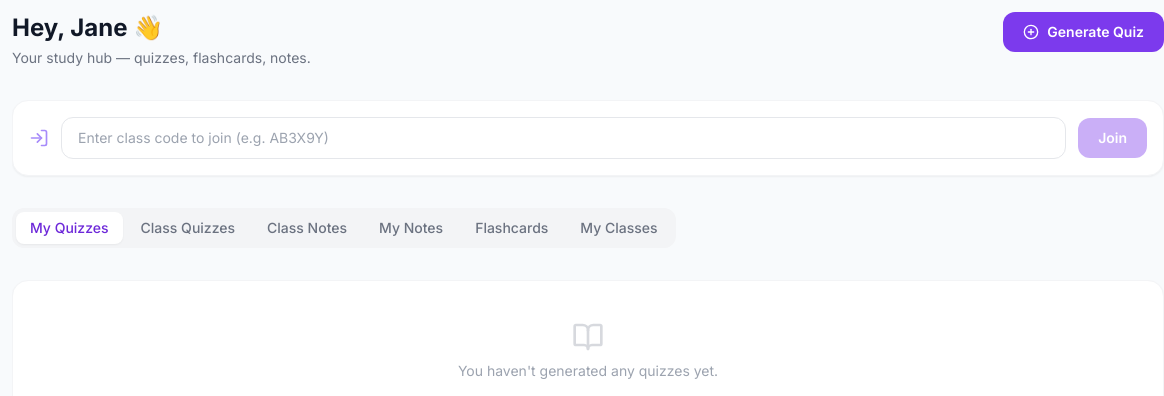
Scenario: StudentDashboard - FEAT-003 › AC-3.1.1: join button is enabled when input has text
This screenshot has width=1164, height=396.
# Type into the class code input
In the field with placeholder "Enter class code to join (e.g. AB3X9Y)": (564, 138) [61,117,1066,159], type "MATH101"
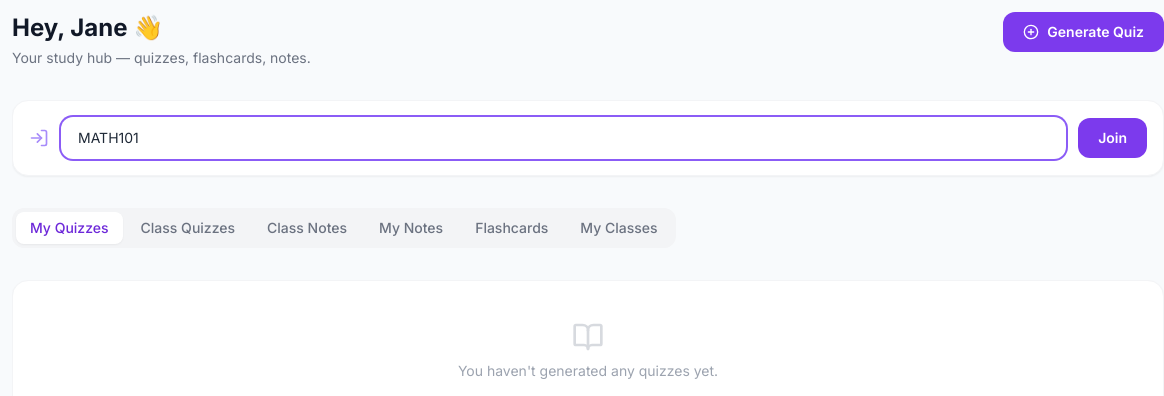
Expected: the button "Join" is enabled, [1078,118,1147,158]
